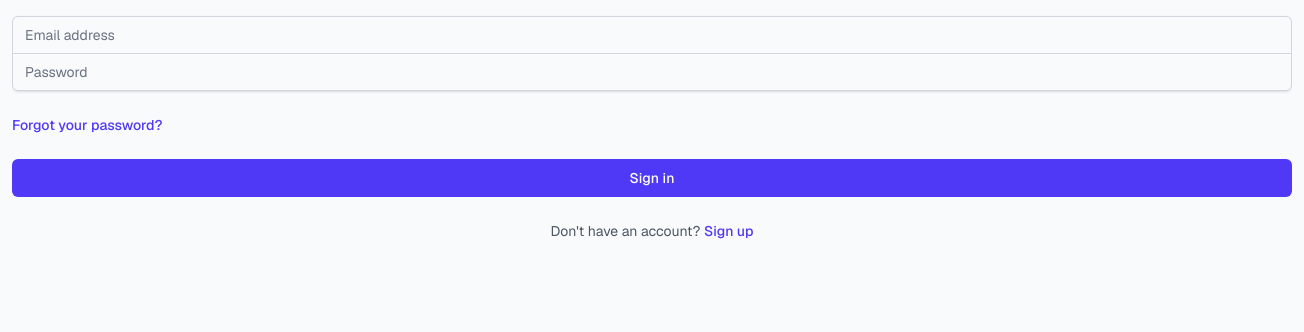
it: LoginForm › shows error message on login failure
Type "test@example.com" into the field with placeholder "Email address" at (652, 35), box [12,16,1292,54]
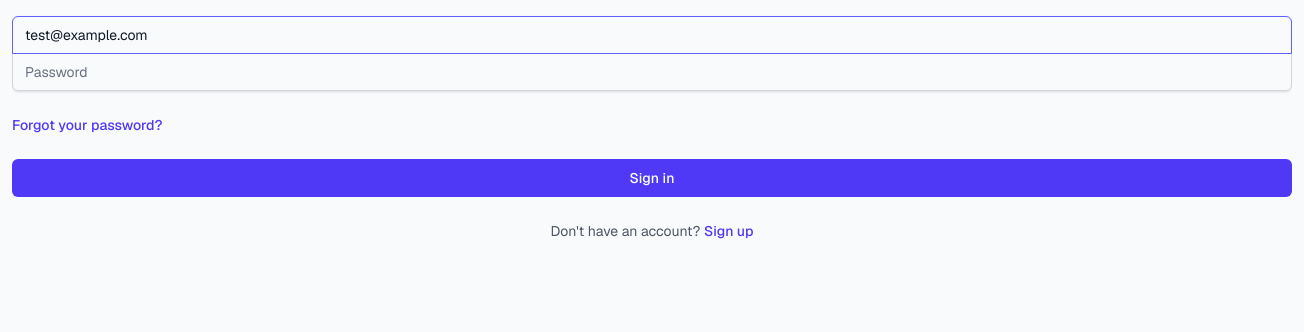
Type "wrongpassword" into the password field with placeholder "Password" at (652, 72), box [12,53,1292,91]
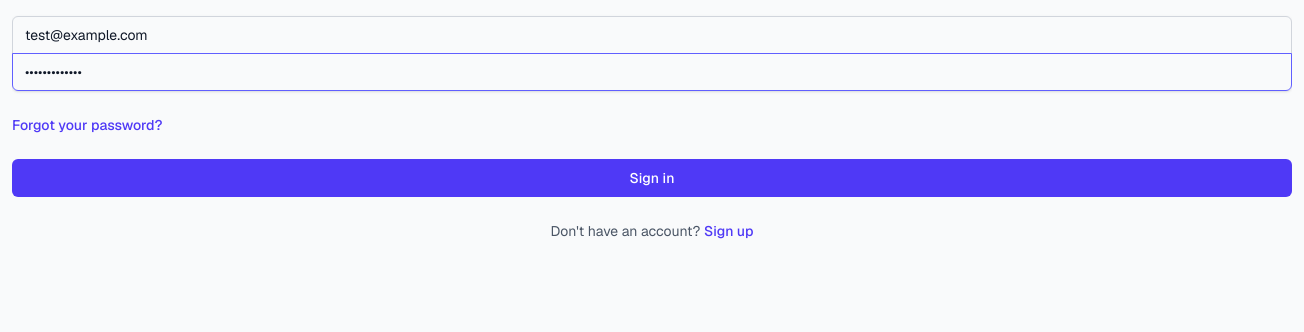
Click the button "Sign in" at (652, 178), box [12,159,1292,197]
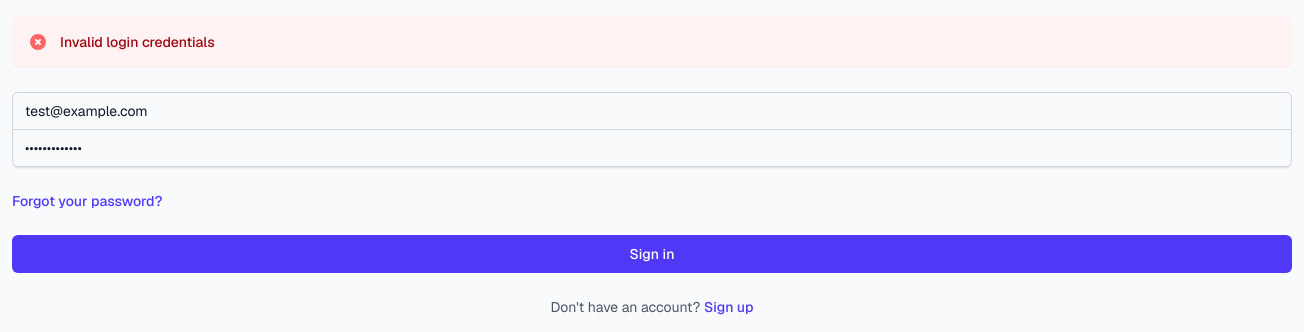
Expected: the text "Invalid login credentials" is shown, [60,32,215,52]
